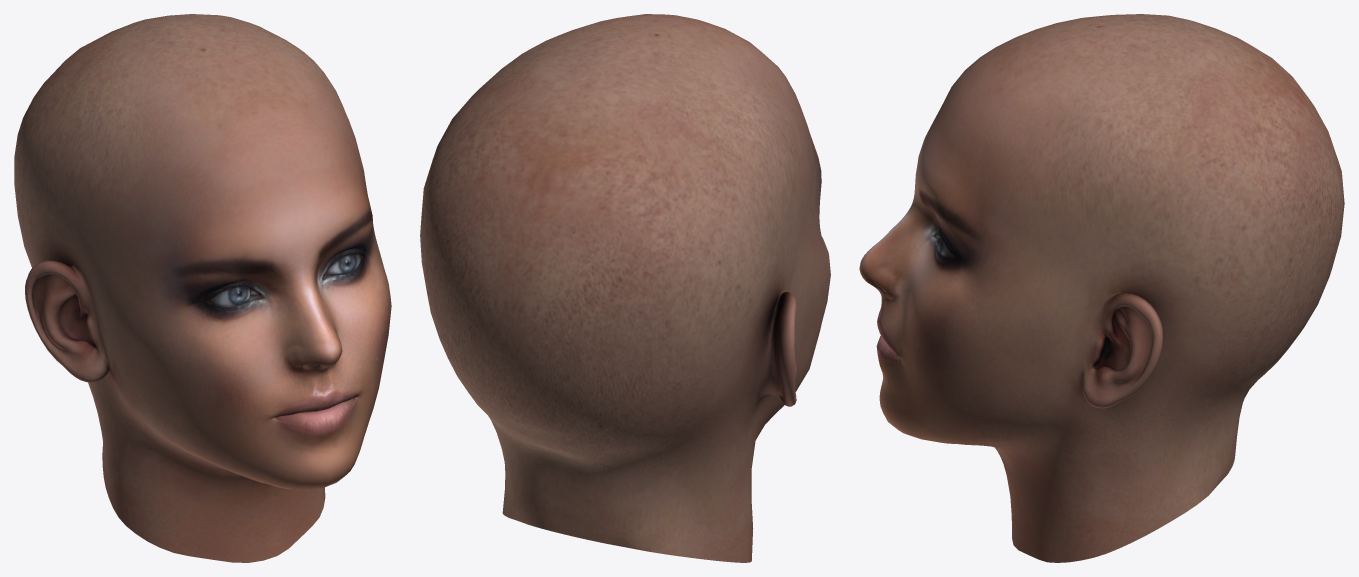
The model's file is lisa-with-blendshapes.glb.
3 views of the same model, side by side, from view 1: azimuth 30°, elevation 25°; view 2: azimuth 150°, elevation 25°; view 3: azimuth 270°, elevation 25° (orthographic). The views are drawn at different scales.
Visible parts, largest first — view 1: Head; view 2: Head; view 3: Head.
Boxes of the visible parts, left/top/right/bottom form: Head: left=14, top=14, right=391, bottom=562; Head: left=420, top=14, right=830, bottom=562; Head: left=859, top=14, right=1344, bottom=562.
Size of the model in its own units: 0.1904 by 0.2705 by 0.2355.
Materials: 1 (1 with a texture image).
